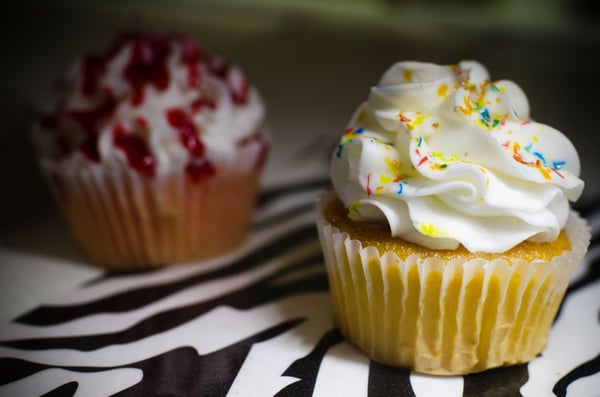sandwich: (0, 317, 308, 394)
